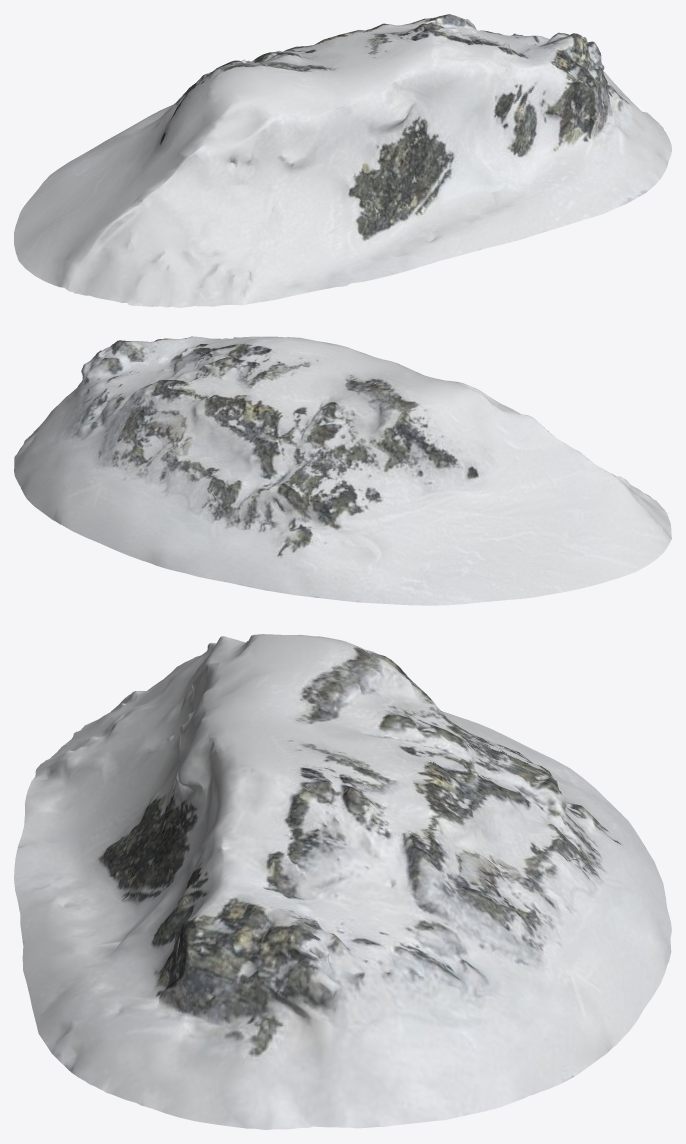
The model's file is snow_pile.glb.
3 views of the same model, one above another, from view 1: azimuth 30°, elevation 25°; view 2: azimuth 150°, elevation 25°; view 3: azimuth 270°, elevation 25° (orthographic). The views are drawn at different scales.
Parts seen in each view (by area): view 1: snow_pile; view 2: snow_pile; view 3: snow_pile.
Part boxes in pixels (bbox=[...]): snow_pile: bbox=[14, 14, 671, 307]; snow_pile: bbox=[14, 336, 671, 605]; snow_pile: bbox=[14, 634, 671, 1129].
Size of the model in its own units: 4.04 by 0.8433 by 2.5.
Materials: 1 (1 with a texture image).
